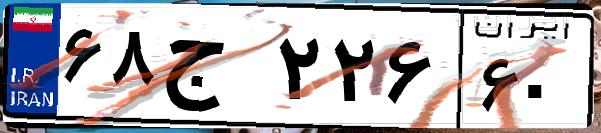0: (525, 38, 570, 115)
2: (270, 28, 330, 110), (330, 28, 385, 110)
6: (385, 28, 445, 110), (57, 26, 110, 100), (475, 38, 525, 113)
8: (110, 28, 158, 98)
ج: (158, 20, 270, 120)
